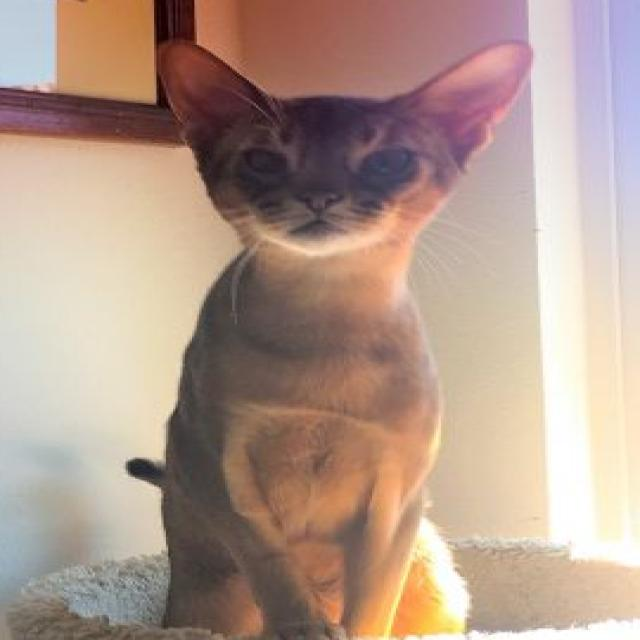Abyssinian: (116, 26, 559, 640)
